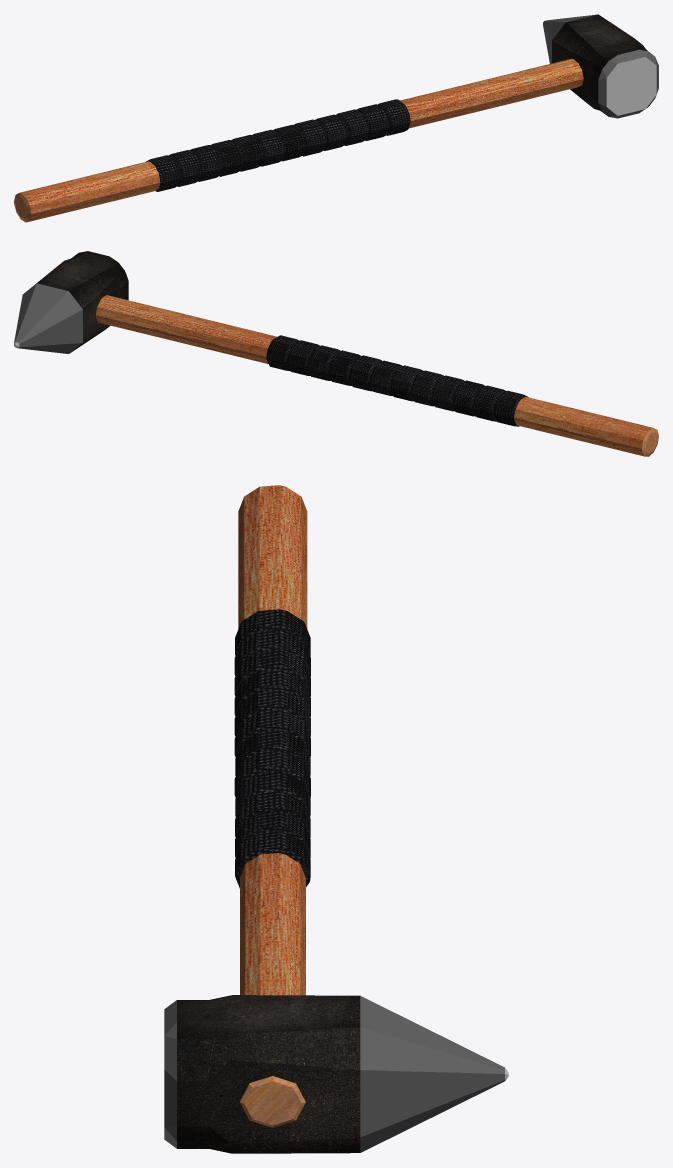
Rendered from WorldItem_RailroadHammer.fbx.
The picture shows the model from 3 angles, top to bottom: view 1: azimuth 30°, elevation 25°; view 2: azimuth 150°, elevation 25°; view 3: azimuth 270°, elevation 25°; orthographic projection. The views are drawn at different scales.
Parts seen in each view (by area): view 1: ZomboidRailroadHammer; view 2: ZomboidRailroadHammer; view 3: ZomboidRailroadHammer.
Part boxes in pixels (x1=…): ZomboidRailroadHammer: x1=14, y1=14, x2=658, y2=222; ZomboidRailroadHammer: x1=14, y1=251, x2=658, y2=456; ZomboidRailroadHammer: x1=164, y1=485, x2=508, y2=1153.
Bounding box in the file's own units: 0.8841 × 0.0875 × 0.2167.
